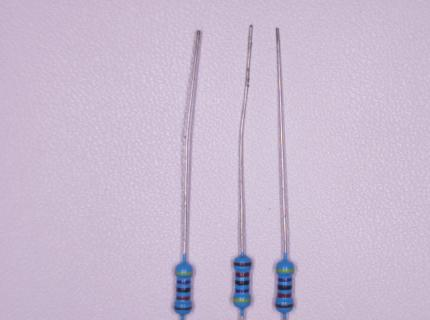Black band: (177, 287, 191, 293), (278, 284, 292, 290), (235, 280, 249, 285)
Brown band: (174, 306, 192, 311), (275, 303, 293, 308), (234, 262, 252, 266)
Red band: (277, 293, 292, 298), (236, 272, 250, 277), (176, 295, 190, 300)
Violet band: (235, 287, 249, 293), (278, 277, 292, 282), (177, 280, 191, 285)
Yellow band: (276, 268, 294, 273), (175, 271, 193, 275), (233, 298, 251, 302)
